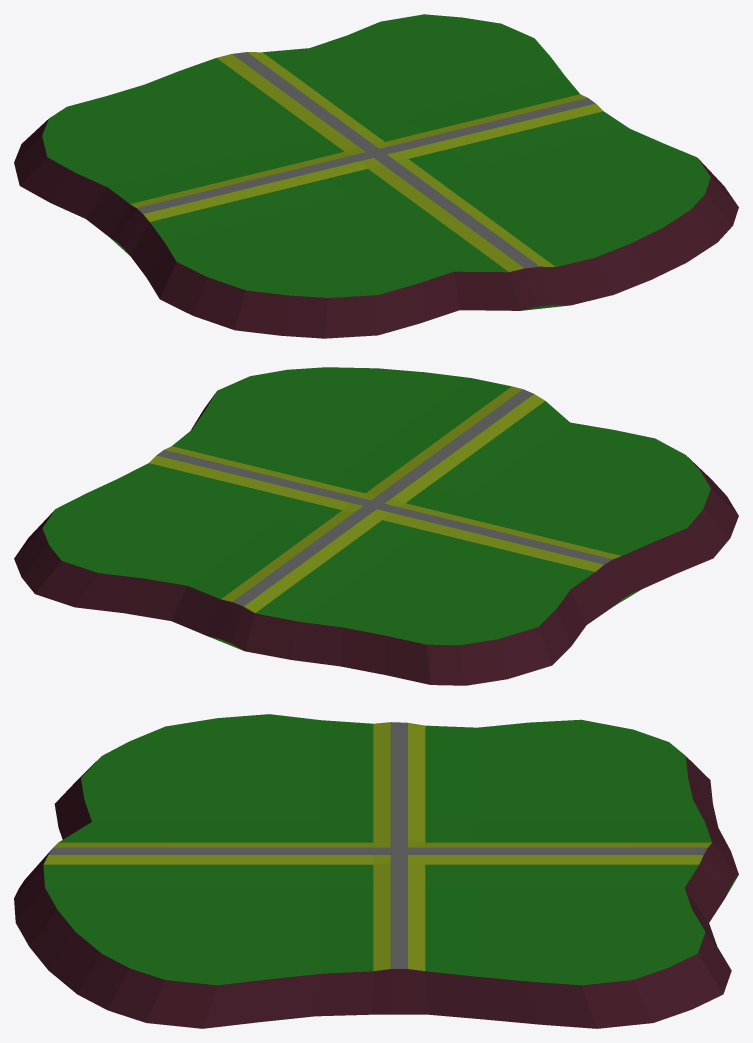
File: territia.fbx
3 renders of one model, top to bottom at view 1: azimuth 30°, elevation 25°; view 2: azimuth 150°, elevation 25°; view 3: azimuth 270°, elevation 25°, orthographic. The views are drawn at different scales.
Visible parts, largest first — view 1: Плоскость.001; view 2: Плоскость.001; view 3: Плоскость.001.
Part boxes in pixels (<box>): Плоскость.001: <box>14,14,738,338</box>; Плоскость.001: <box>14,367,738,685</box>; Плоскость.001: <box>14,714,738,1028</box>.
Bounding box in the file's own units: 18252 × 1032 × 19015.
